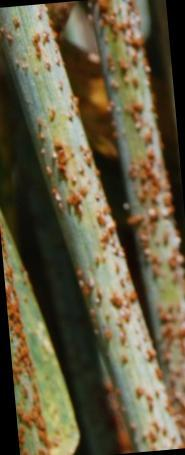Wheat: (21, 87, 157, 372), (100, 14, 182, 320), (5, 281, 57, 445)
